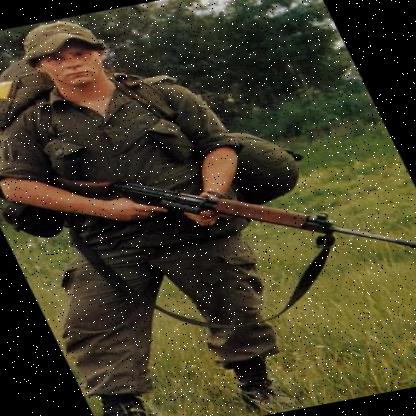rifle: (26, 108, 416, 326)
